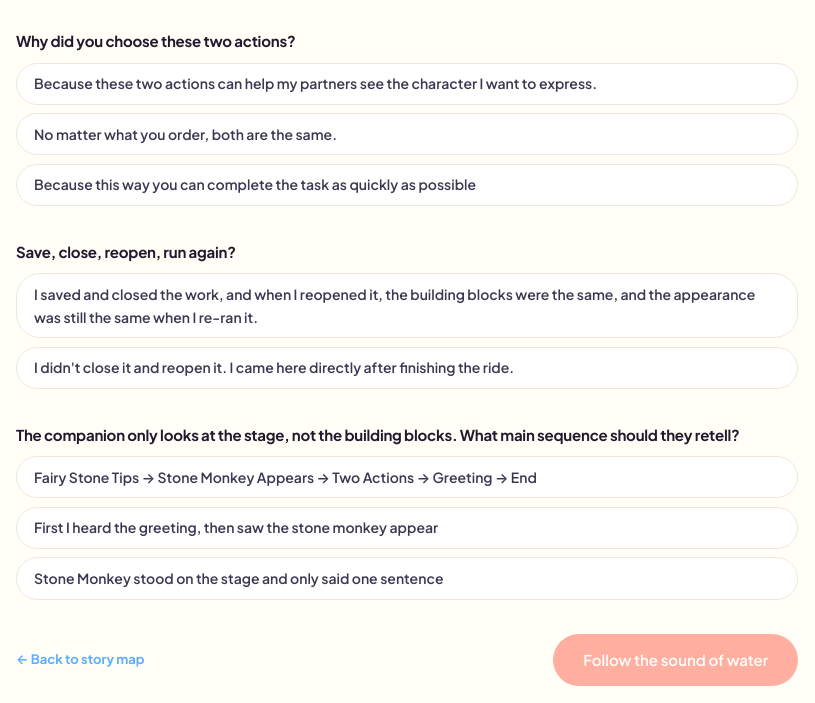
it: JourneyWestPart7Page · C1-P7 My Stone Monkey Appears › a wrong peer retell gets the stage-grounded retry hint
The width and height of the screenshot is (815, 703).
(page scrolled)
Click the button "First I heard the greeting, then saw the stone monkey appear". click: [407, 528]
box: left=16, top=507, right=798, bottom=549
(page scrolled)
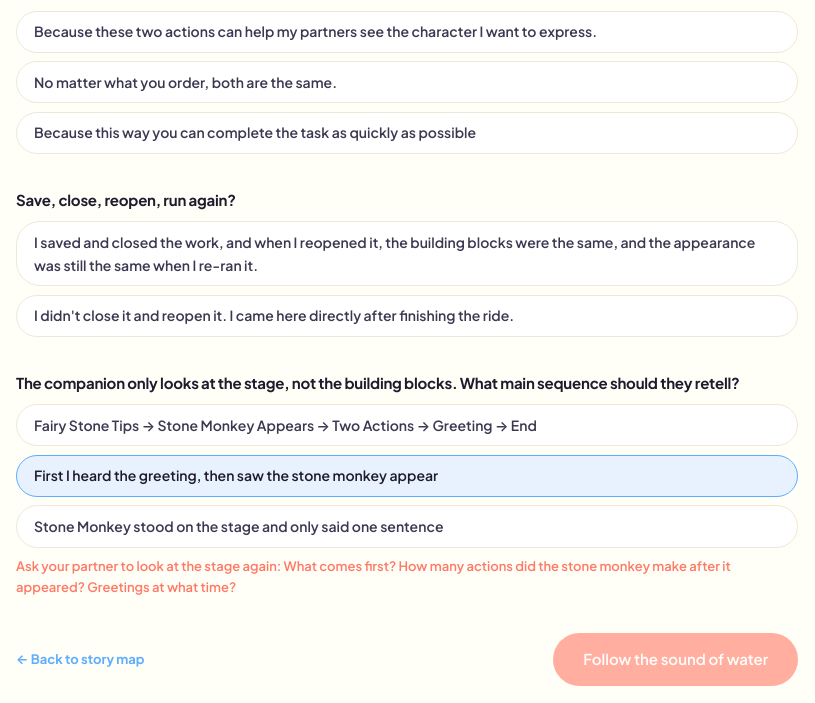
Expected: the button with test id "jtw-p7-continue" is disabled, left=554, top=633, right=798, bottom=686
Expected: the message shows "Ask your partner to look at the stage again: What comes first? How many actions did the stone monkey make after it appeared? Greetings at what time?", left=16, top=558, right=731, bottom=595
